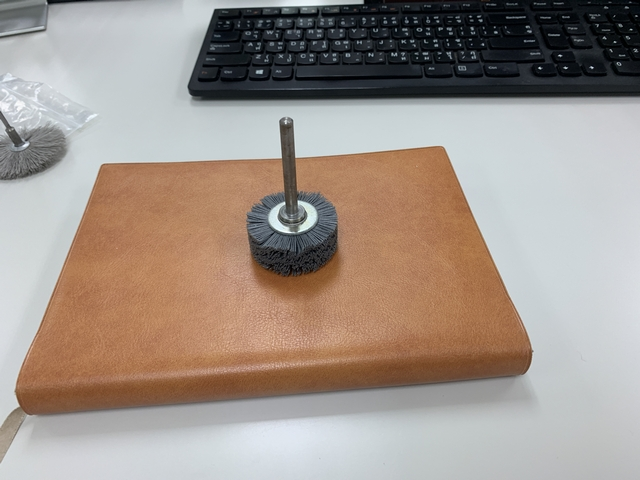Wheel Brush: (236, 105, 345, 281), (222, 122, 336, 267)
